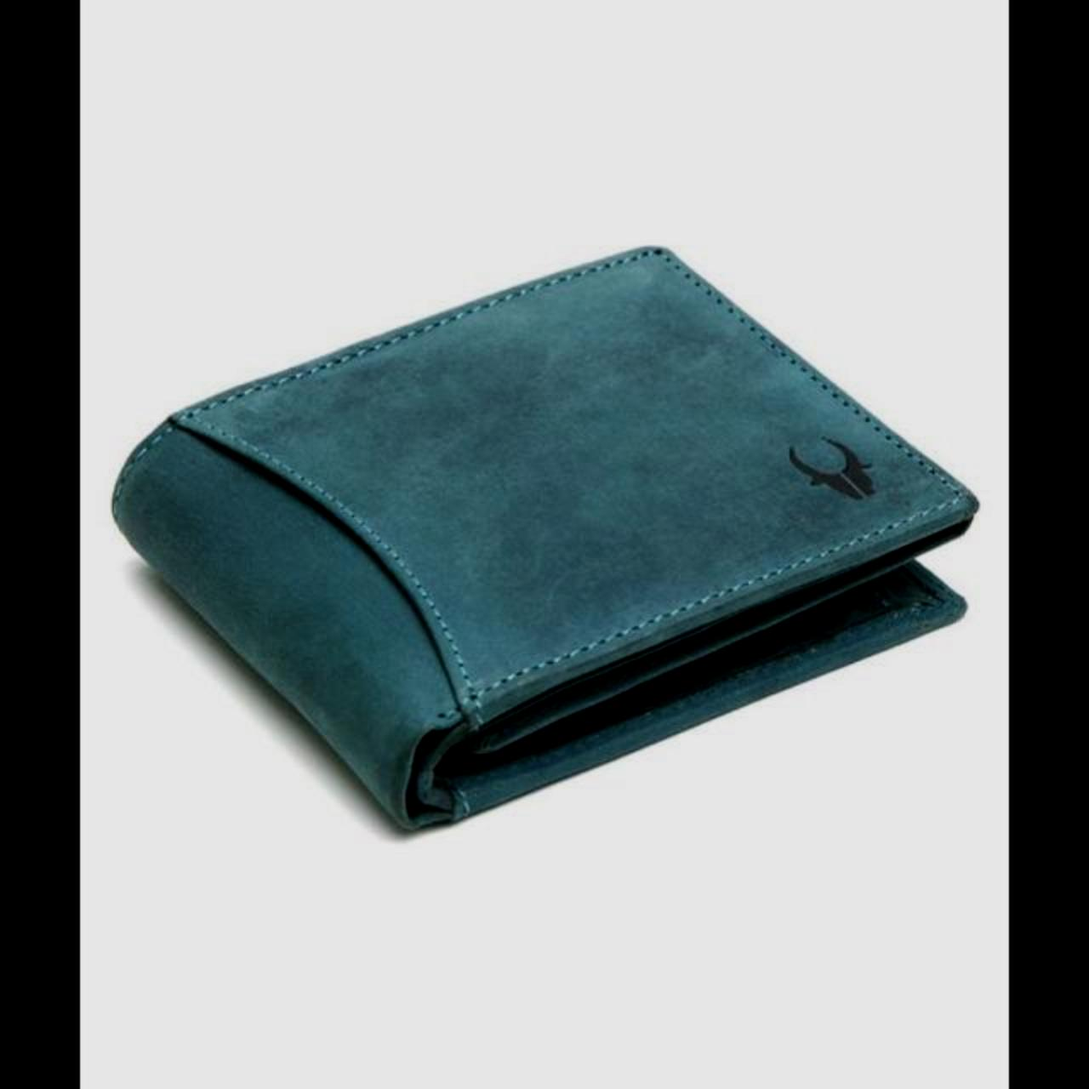wallet: (109, 239, 982, 845)
